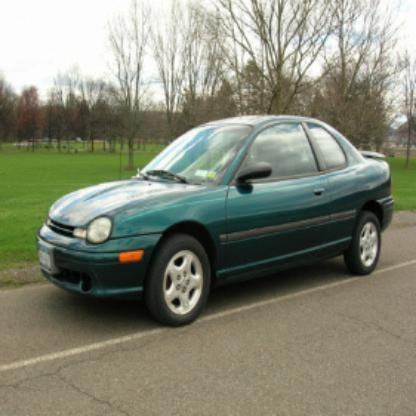Vehicle: (36, 110, 395, 329)
